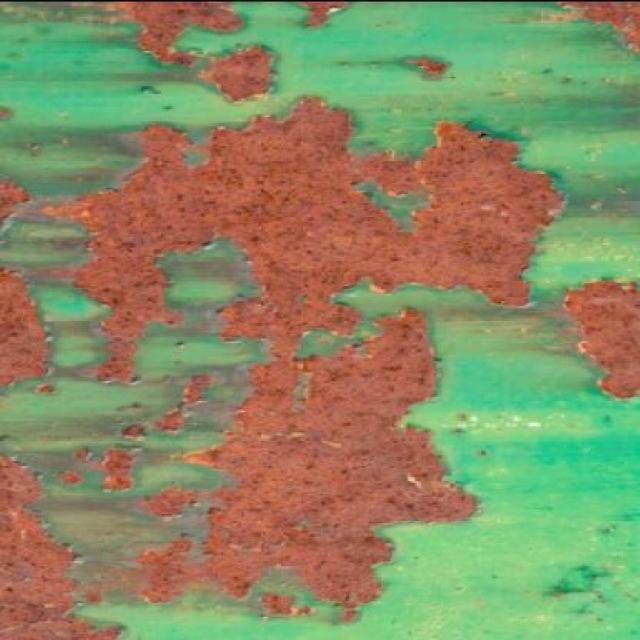corrosion: (53, 86, 565, 635), (0, 426, 123, 640), (80, 0, 249, 75), (561, 274, 640, 400), (114, 365, 220, 439), (0, 257, 52, 388), (543, 0, 640, 51), (202, 43, 278, 98), (85, 445, 135, 492), (260, 590, 319, 622), (0, 169, 31, 229), (294, 0, 355, 26), (408, 50, 452, 78), (57, 469, 91, 488), (37, 383, 59, 395)
